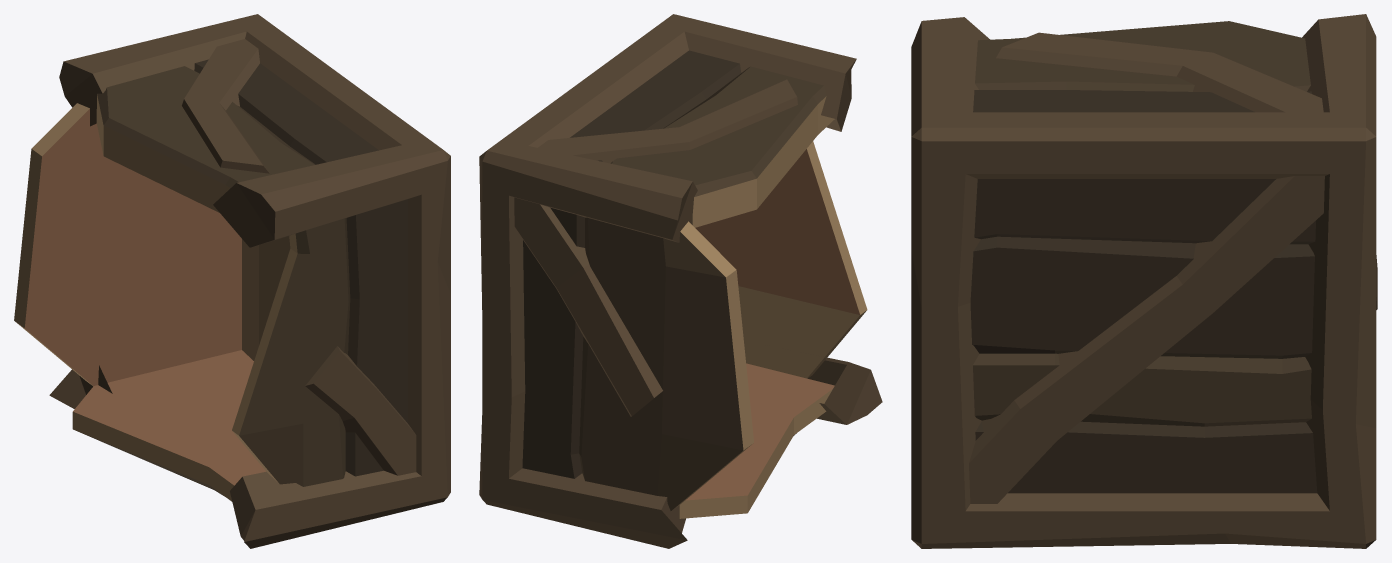
The model's file is Creat_brocken.fbx.
3 renders of one model, left to right at view 1: azimuth 30°, elevation 25°; view 2: azimuth 150°, elevation 25°; view 3: azimuth 270°, elevation 25°, orthographic. The views are drawn at different scales.
Parts seen in each view (by area): view 1: Crate_Wood_Broken; view 2: Crate_Wood_Broken; view 3: Crate_Wood_Broken.
Boxes of the visible parts, box(x1,y1,x2,y2) form: Crate_Wood_Broken: box(14, 14, 450, 548); Crate_Wood_Broken: box(479, 14, 882, 548); Crate_Wood_Broken: box(911, 14, 1377, 548).
Size of the model in its own units: 0.8183 by 1.07 by 1.07.
